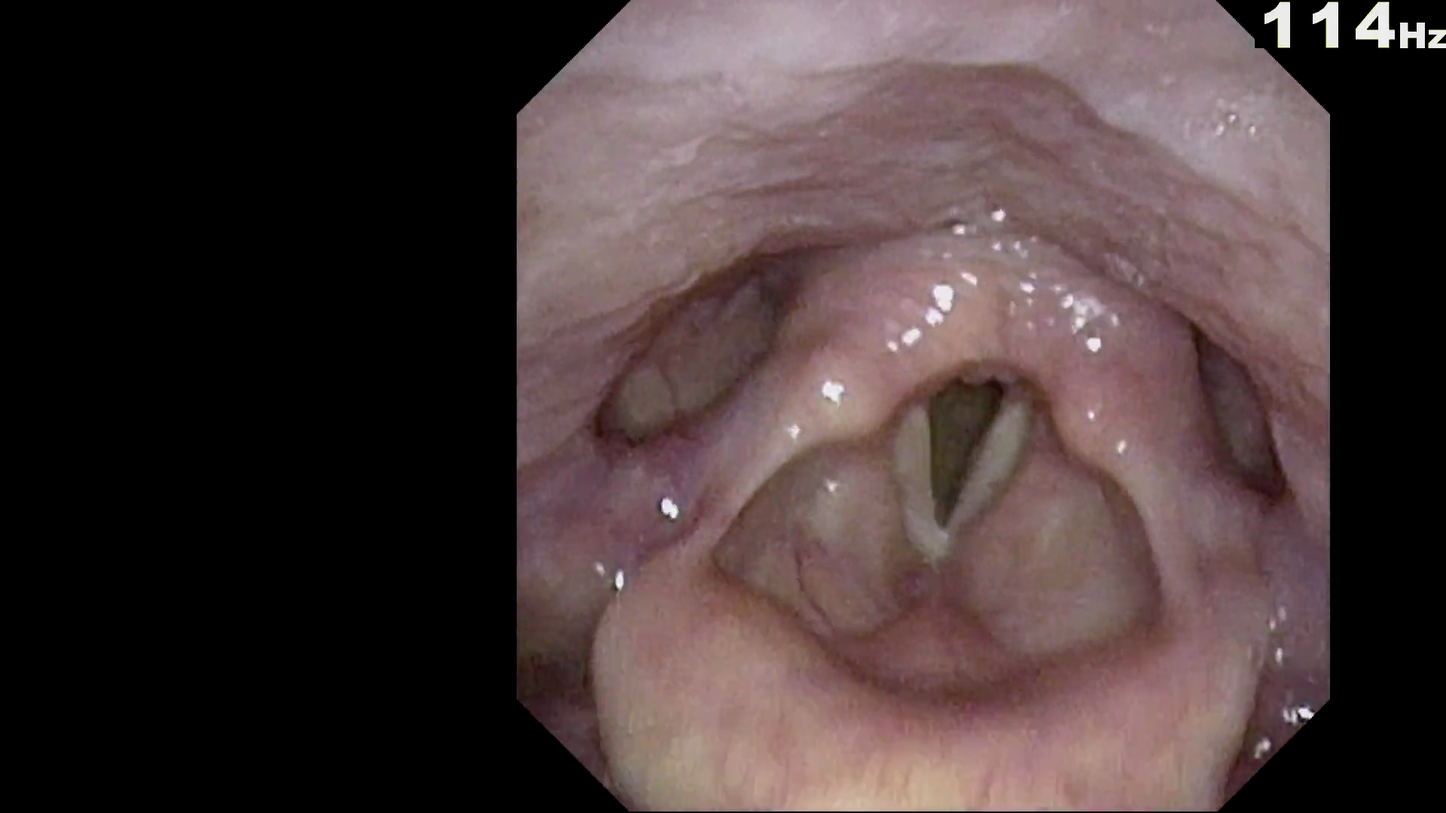epiglottis: (581, 491, 1271, 741)
trachea: (867, 344, 1045, 569)
